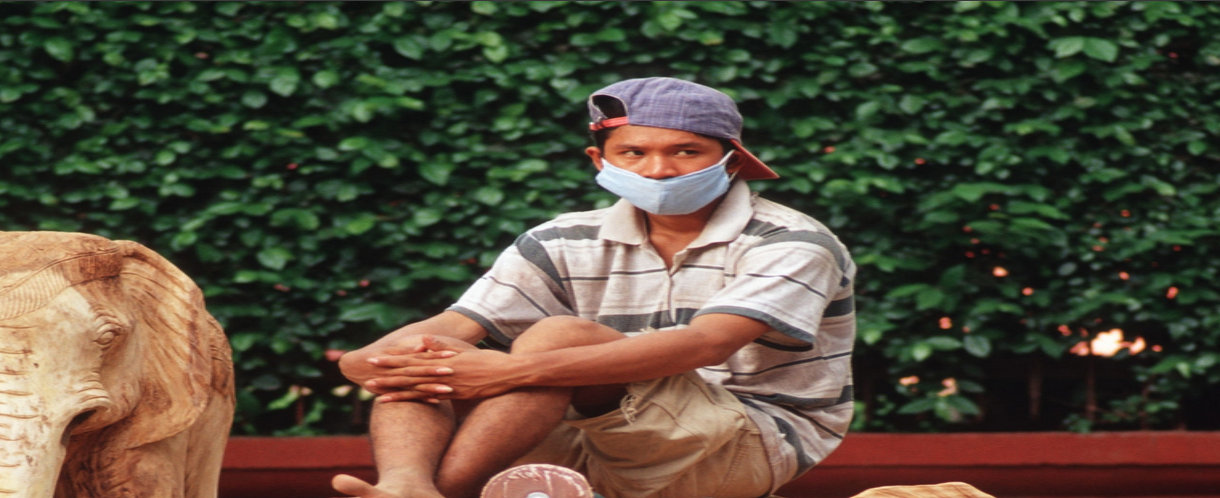mask_weared_incorrect: (577, 75, 768, 227)
